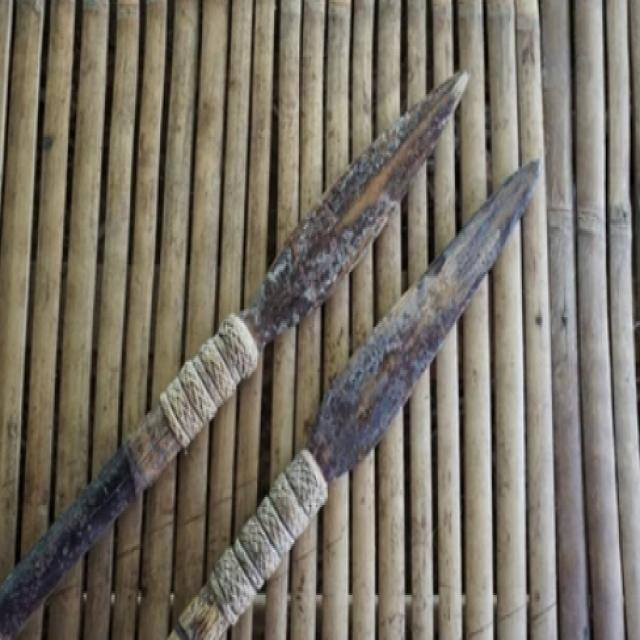semi automatic: (140, 56, 640, 638)
